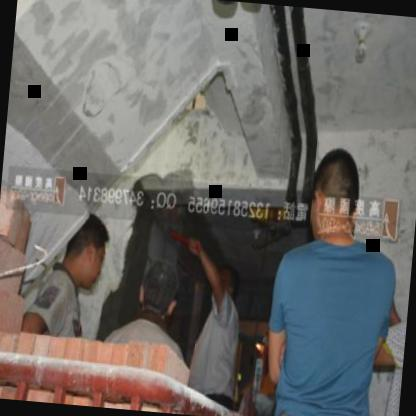head: (299, 138, 370, 248), (54, 200, 116, 300), (134, 257, 183, 327), (208, 260, 243, 314)
